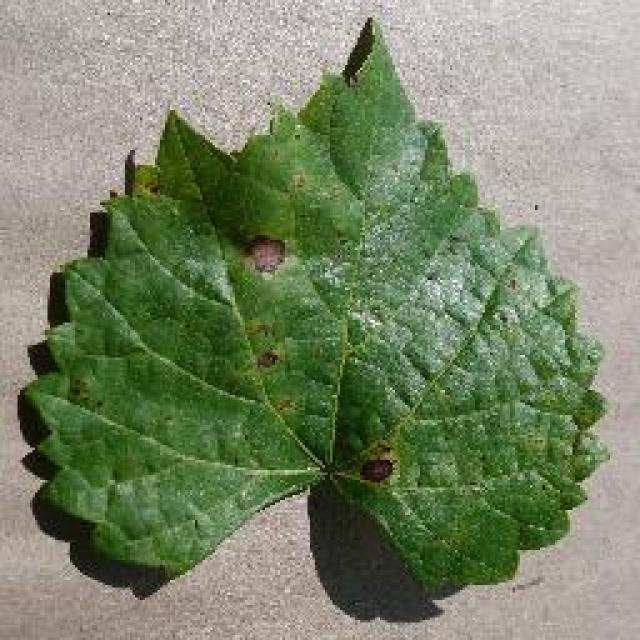Grape___Black_rot: (13, 16, 620, 601)
